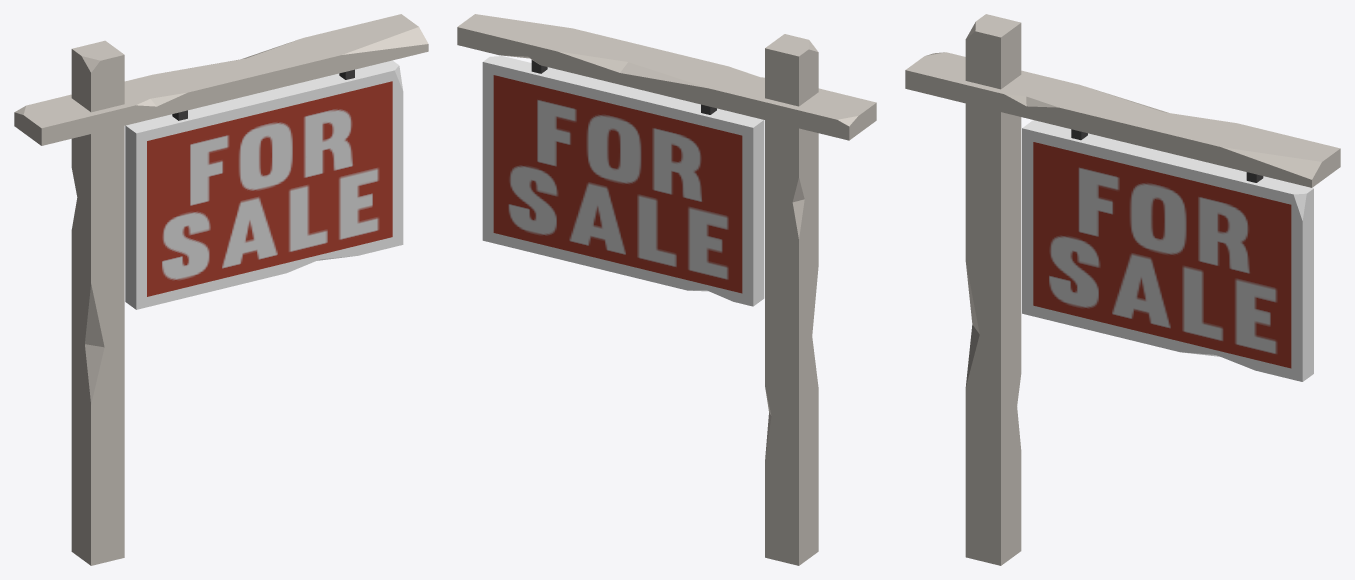
The model's file is SM_Prop_ForSaleSign_01.fbx.
3 views of the same model, side by side, from view 1: azimuth 30°, elevation 25°; view 2: azimuth 150°, elevation 25°; view 3: azimuth 330°, elevation 25° (orthographic). The views are drawn at different scales.
Visible parts, largest first — view 1: SM_Prop_ForSaleSign_01; view 2: SM_Prop_ForSaleSign_01; view 3: SM_Prop_ForSaleSign_01.
Part boxes in pixels (x1=…): SM_Prop_ForSaleSign_01: x1=14, y1=14, x2=428, y2=565; SM_Prop_ForSaleSign_01: x1=457, y1=14, x2=876, y2=565; SM_Prop_ForSaleSign_01: x1=905, y1=14, x2=1340, y2=565.
Bounding box in the file's own units: 125 × 155 × 15.17.
